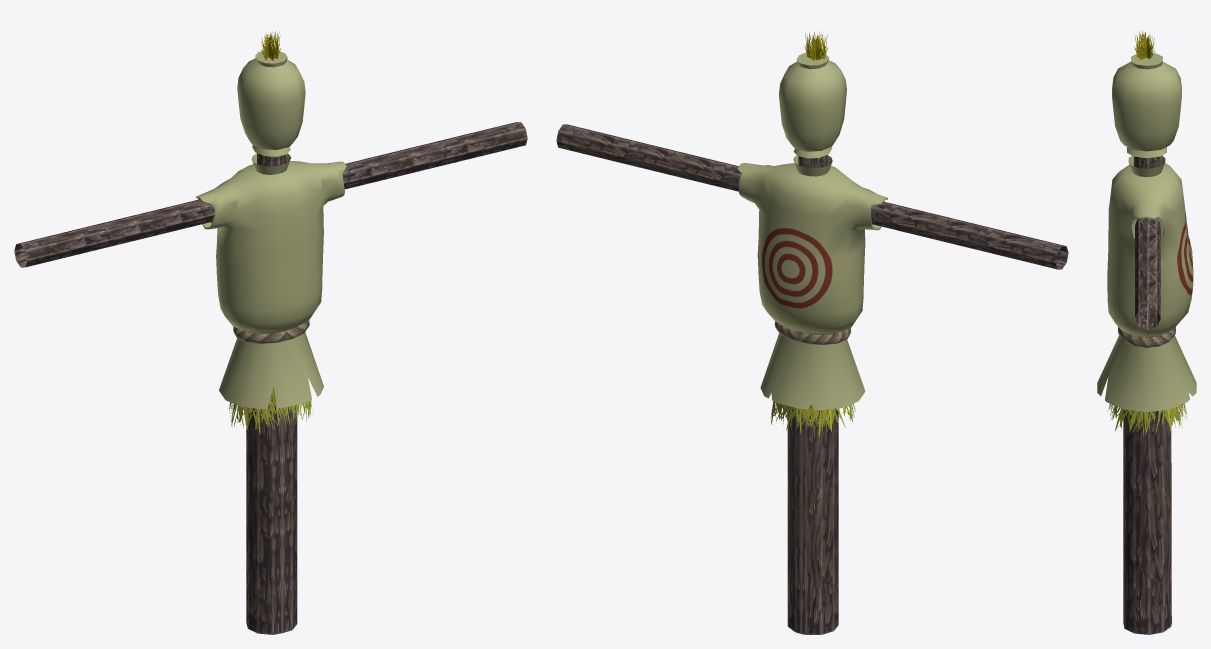
The model's file is Enemy_Rig.fbx.
3 renders of one model, left to right at view 1: azimuth 30°, elevation 25°; view 2: azimuth 150°, elevation 25°; view 3: azimuth 270°, elevation 25°, orthographic.
Visible parts, largest first — view 1: Body, Leg, Head, L_Arm, R_Arm, Stro, Belt; view 2: Body, Leg, Head, L_Arm, R_Arm, Stro, Belt; view 3: Body, Leg, Head, R_Arm, Stro, Belt, Neck, Plane_2, Plane.
Part boxes in pixels (x1,y1,x2,y2): Body: (196, 153, 346, 409); Leg: (246, 405, 297, 634); Head: (237, 50, 305, 156); L_Arm: (14, 199, 214, 267); R_Arm: (342, 122, 527, 189); Stro: (229, 386, 313, 434); Belt: (233, 320, 309, 343); Body: (737, 155, 887, 410); Leg: (787, 405, 838, 634); Head: (779, 52, 846, 158); L_Arm: (871, 201, 1068, 269); R_Arm: (556, 124, 741, 191); Stro: (770, 401, 855, 436); Belt: (774, 321, 851, 344); Body: (1097, 155, 1196, 412); Leg: (1123, 409, 1171, 634); Head: (1112, 53, 1181, 158); R_Arm: (1135, 218, 1160, 329); Stro: (1107, 403, 1186, 435); Belt: (1118, 327, 1175, 347); Neck: (1133, 156, 1160, 168); Plane_2: (1134, 32, 1155, 57); Plane: (1137, 32, 1153, 60).
Size of the model in its own units: 129 by 150 by 22.23.
Materials: 1 (1 with a texture image).
